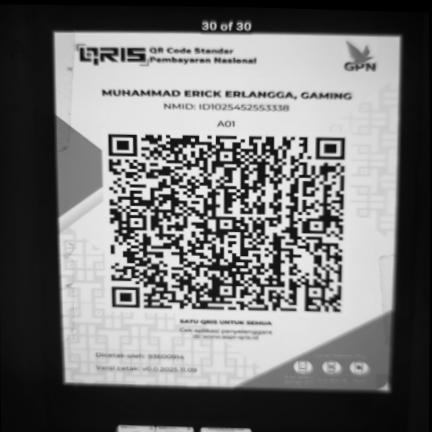Cara Pakai QRIS: (275, 350, 385, 387)
Cek Aplikasi Penyelenggara: (174, 326, 280, 342)
Dicetak Oleh: (90, 348, 189, 362)
Logo GPN: (335, 38, 384, 78)
Logo dan deskripsi QRIS: (59, 41, 267, 68)
Nama Merchant: (94, 86, 357, 102)
National Merchant ID: (160, 101, 293, 113)
QR Code: (103, 130, 347, 316)
Slogan: (174, 314, 279, 326)
Terminal ID: (211, 118, 241, 130)
Versi Cetak: (90, 362, 201, 373)
